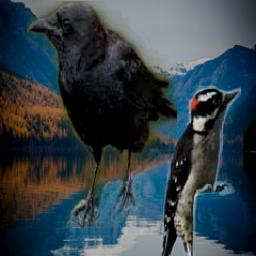Crow: (26, 1, 176, 228)
Woodpecker: (160, 86, 241, 256)
